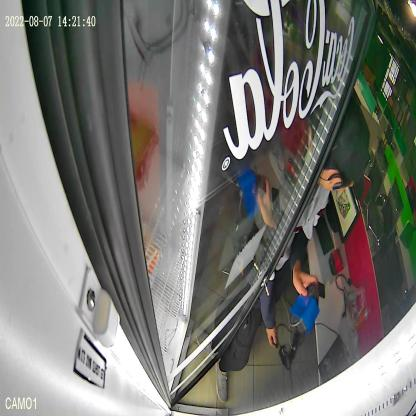blue: (289, 282, 320, 336)
